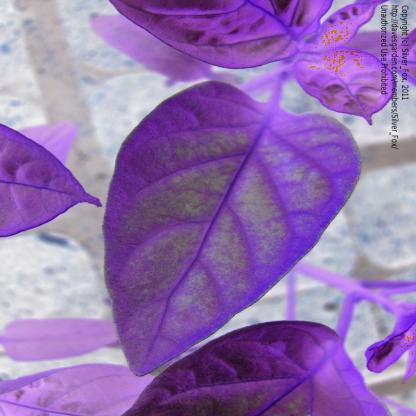bell pepper leaf: (108, 39, 415, 230)
